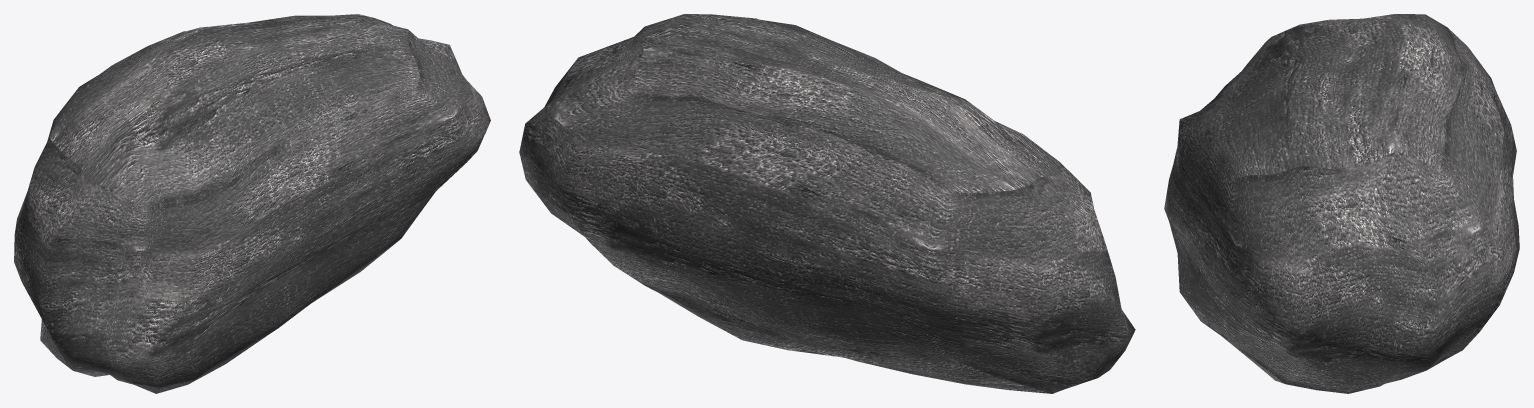
Rendered from stone_01.FBX.
3 renders of one model, left to right at view 1: azimuth 30°, elevation 25°; view 2: azimuth 150°, elevation 25°; view 3: azimuth 270°, elevation 25°, orthographic. The views are drawn at different scales.
Visible parts, largest first — view 1: stone01; view 2: stone01; view 3: stone01.
Boxes of the visible parts, <box> form: stone01: <box>14,14,490,393</box>; stone01: <box>519,14,1135,393</box>; stone01: <box>1164,14,1519,393</box>.
Size of the model in its own units: 51.15 by 27.62 by 29.66.
